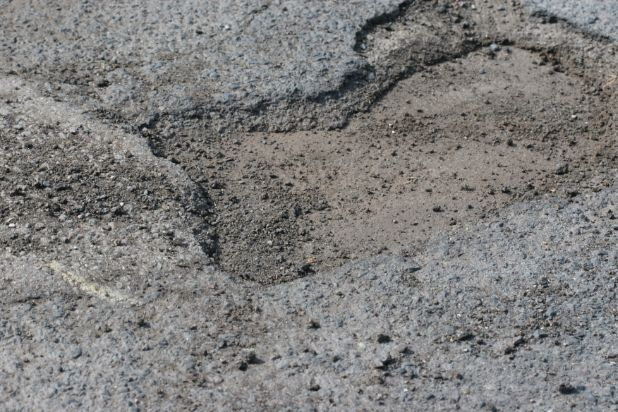pothole: (141, 1, 599, 292)
